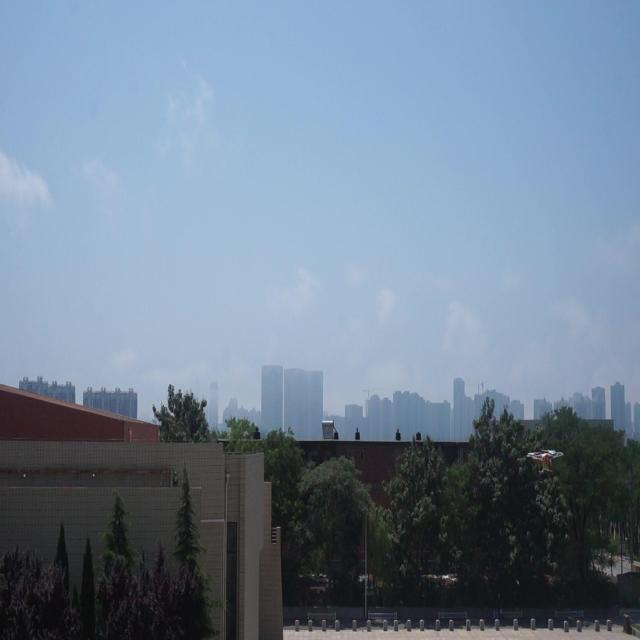drone: (525, 446, 565, 478)
